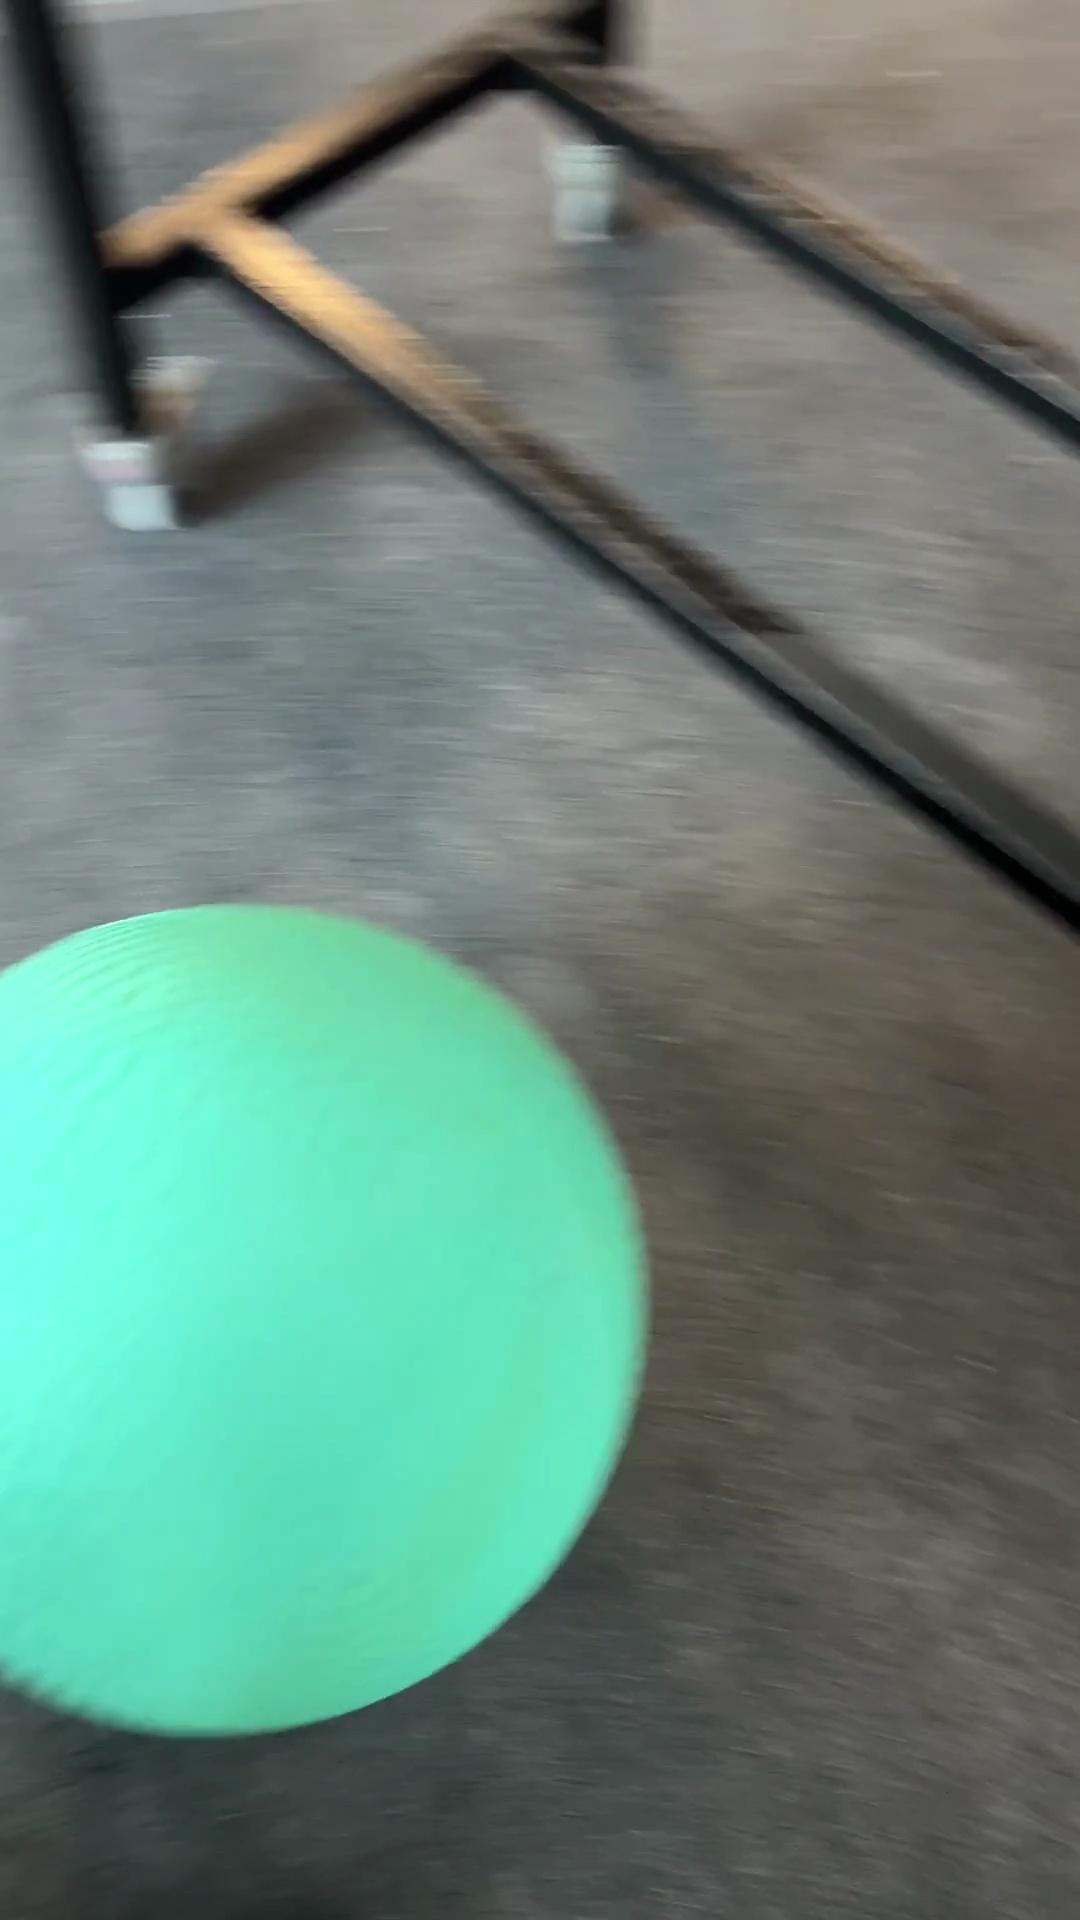ALGAE: (1, 898, 651, 1741)
